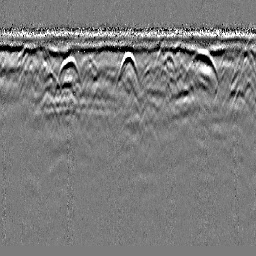cavity: (114, 50, 142, 91)
